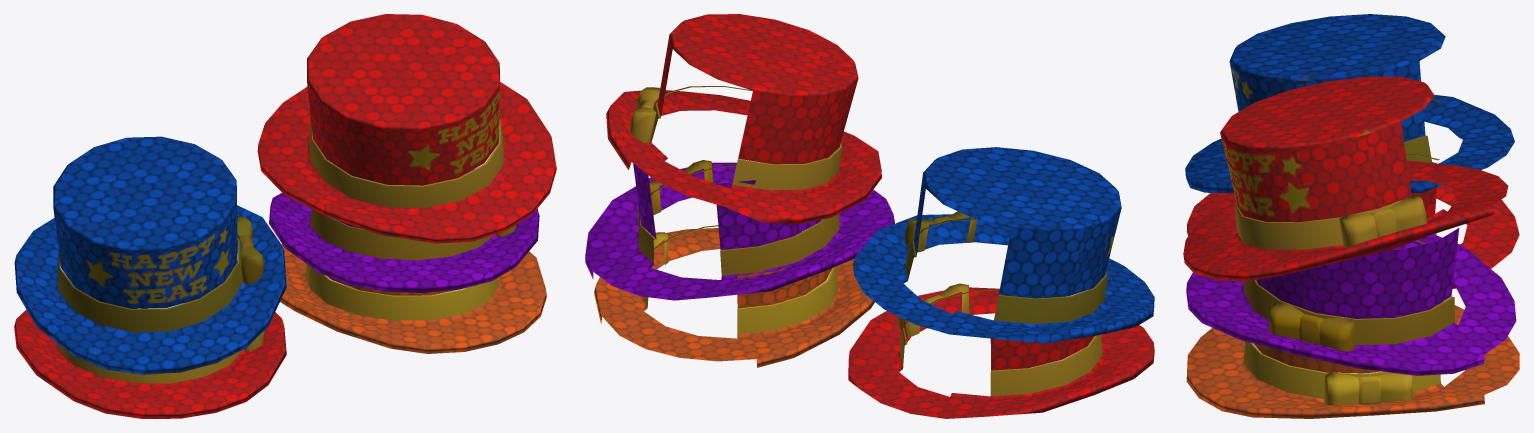
File: EvtobjPartsHatA.glb
3 renders of one model, left to right at view 1: azimuth 30°, elevation 25°; view 2: azimuth 150°, elevation 25°; view 3: azimuth 270°, elevation 25°, orthographic. The views are drawn at different scales.
Parts seen in each view (by area): view 1: polySurface2_1__mHatUnitedA; view 2: polySurface2_1__mHatUnitedA; view 3: polySurface2_1__mHatUnitedA.
Boxes of the visible parts, x1,y1,x2,y2 form: polySurface2_1__mHatUnitedA: (14,14,556,418); polySurface2_1__mHatUnitedA: (585,14,1154,418); polySurface2_1__mHatUnitedA: (1183,14,1519,418).
Bounding box in the file's own units: 14.68 × 7.18 × 7.94.
Materials: 1 (1 with a texture image).
